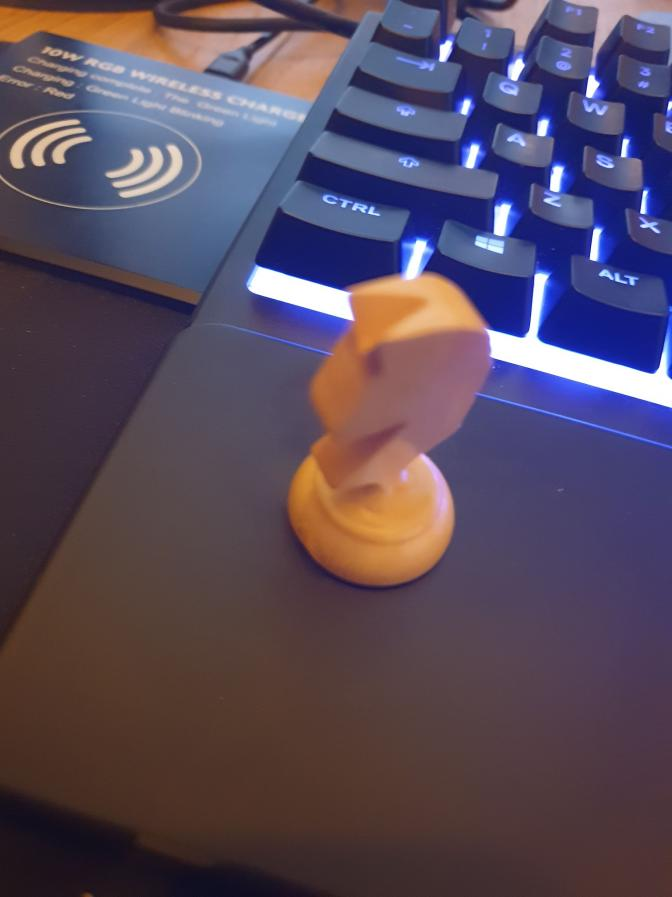wknight: (287, 270, 495, 591)
